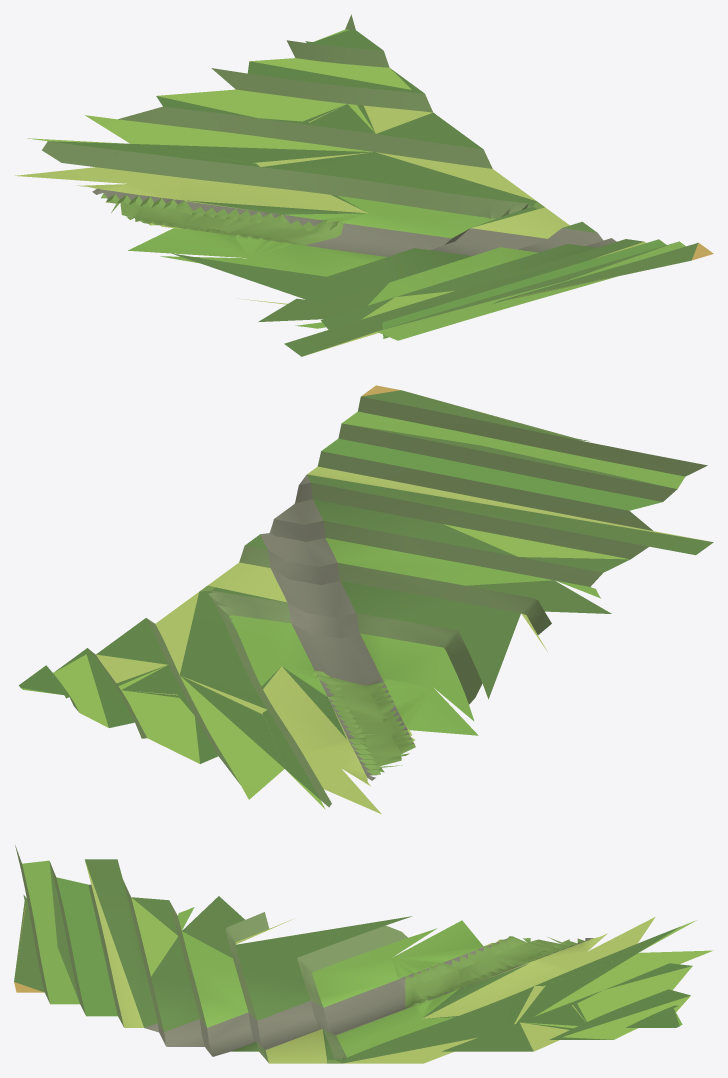
The model's file is payo_land_xm5_y8.glb.
3 views of the same model, one above another, from view 1: azimuth 30°, elevation 25°; view 2: azimuth 150°, elevation 25°; view 3: azimuth 270°, elevation 25° (orthographic). The views are drawn at different scales.
Parts seen in each view (by area): view 1: payo_land_xm5_y8; view 2: payo_land_xm5_y8; view 3: payo_land_xm5_y8.
Boxes of the visible parts, x1,y1,x2,y2 form: payo_land_xm5_y8: (15,14,713,356); payo_land_xm5_y8: (19,385,713,814); payo_land_xm5_y8: (14,845,712,1063).
Size of the model in its own units: 153 by 38 by 268.
